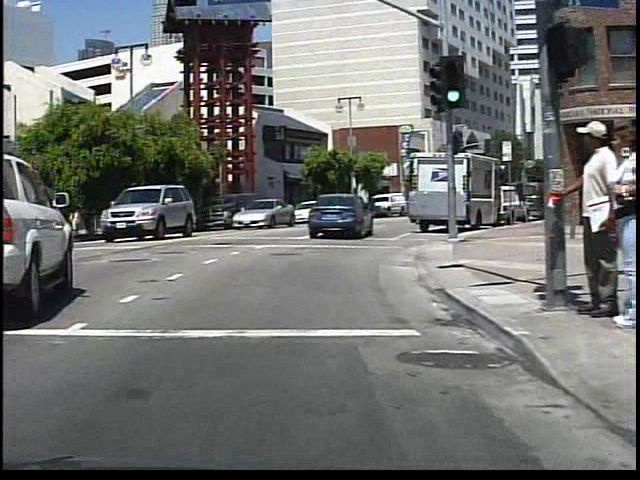person: (554, 116, 610, 319)
